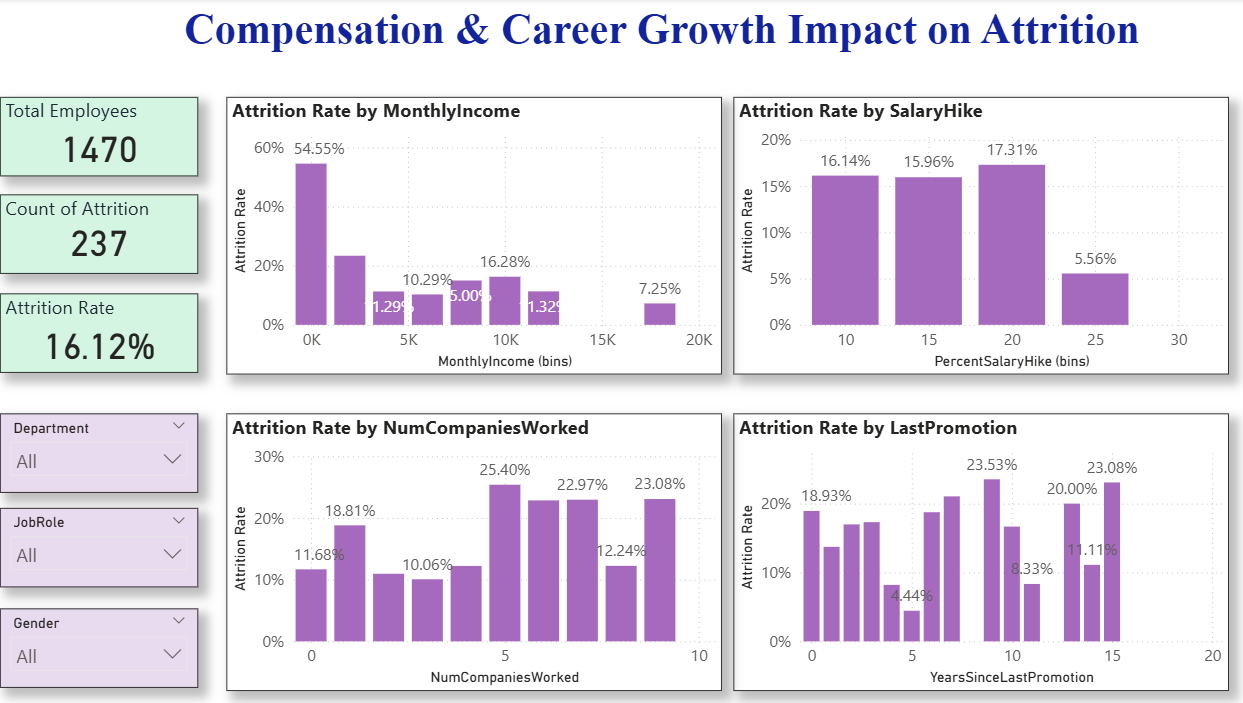

The page's visual inventory and layout, read from the dashboard file:
{"tool":"powerbi","page":{"name":"Compensation & Growth Analysis","canvas":[1280,720],"ordinal":1},"visuals":[{"type":"clusteredColumnChart","title":" Attrition Rate by LastPromotion","fields":{"Category":["WA_Fn-UseC_-HR-Employee-Attrition.YearsSinceLastPromotion"],"Y":["WA_Fn-UseC_-HR-Employee-Attrition.Attrition Rate"]},"box":[740,420,500,280],"z":0},{"type":"clusteredColumnChart","title":"Attrition Rate by SalaryHike","fields":{"Y":["WA_Fn-UseC_-HR-Employee-Attrition.Attrition Rate"],"Category":["WA_Fn-UseC_-HR-Employee-Attrition.PercentSalaryHike (bins)"]},"box":[740,100,500,280],"z":1000},{"type":"clusteredColumnChart","title":"Attrition Rate by MonthlyIncome","fields":{"Category":["WA_Fn-UseC_-HR-Employee-Attrition.MonthlyIncome (bins)"],"Y":["WA_Fn-UseC_-HR-Employee-Attrition.Attrition Rate"]},"box":[228.3,100,500,280],"z":2000},{"type":"clusteredColumnChart","title":"Attrition Rate by NumCompaniesWorked","fields":{"Category":["WA_Fn-UseC_-HR-Employee-Attrition.NumCompaniesWorked"],"Y":["WA_Fn-UseC_-HR-Employee-Attrition.Attrition Rate"]},"box":[228.3,420,500,280],"z":3000},{"type":"textbox","box":[83.3,1.7,1170,83.3],"z":4000},{"type":"card","title":"Total Employees","fields":{"Values":["Sum(WA_Fn-UseC_-HR-Employee-Attrition.EmployeeCount)"]},"box":[0,100,200,80],"z":5000},{"type":"kpi","title":"Count of Attrition ","fields":{"TrendLine":["WA_Fn-UseC_-HR-Employee-Attrition.Attrition"],"Indicator":["CountNonNull(WA_Fn-UseC_-HR-Employee-Attrition.Attrition)"]},"box":[0,198.3,200,80],"z":6000},{"type":"card","title":"Attrition Rate","fields":{"Values":["WA_Fn-UseC_-HR-Employee-Attrition.Attrition Rate"]},"box":[0,298.3,200,80],"z":7000},{"type":"slicer","fields":{"Values":["WA_Fn-UseC_-HR-Employee-Attrition.Department"]},"box":[0,420,200,80],"z":8000},{"type":"slicer","fields":{"Values":["WA_Fn-UseC_-HR-Employee-Attrition.JobRole"]},"box":[0,515,200,80],"z":9000},{"type":"slicer","fields":{"Values":["WA_Fn-UseC_-HR-Employee-Attrition.Gender"]},"box":[0,616.7,200,80],"z":10000}]}

Visuals, with their boxes in screenshot pixels (x1, y1, x2, y2), scaled from the page's 1280x720 canvas onto the 1243x703 screenshot:
" Attrition Rate by LastPromotion" clusteredColumnChart: [left=719, top=410, right=1204, bottom=683]
"Attrition Rate by SalaryHike" clusteredColumnChart: [left=719, top=98, right=1204, bottom=371]
"Attrition Rate by MonthlyIncome" clusteredColumnChart: [left=222, top=98, right=707, bottom=371]
"Attrition Rate by NumCompaniesWorked" clusteredColumnChart: [left=222, top=410, right=707, bottom=683]
textbox: [left=81, top=2, right=1217, bottom=83]
"Total Employees" card: [left=0, top=98, right=194, bottom=176]
"Count of Attrition " kpi: [left=0, top=194, right=194, bottom=272]
"Attrition Rate" card: [left=0, top=291, right=194, bottom=369]
slicer - WA_Fn-UseC_-HR-Employee-Attrition.Department: [left=0, top=410, right=194, bottom=488]
slicer - WA_Fn-UseC_-HR-Employee-Attrition.JobRole: [left=0, top=503, right=194, bottom=581]
slicer - WA_Fn-UseC_-HR-Employee-Attrition.Gender: [left=0, top=602, right=194, bottom=680]
